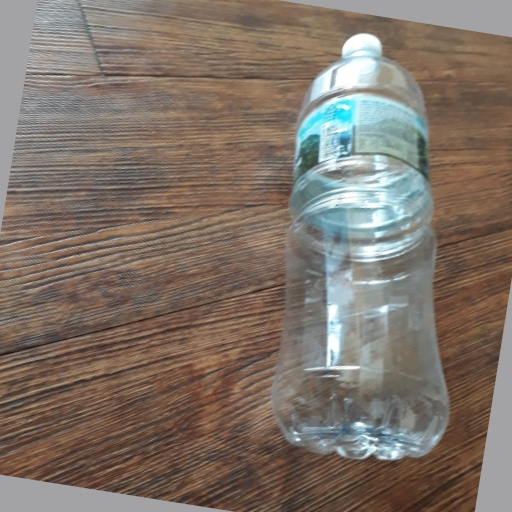Plastic_0: (270, 31, 456, 459)
